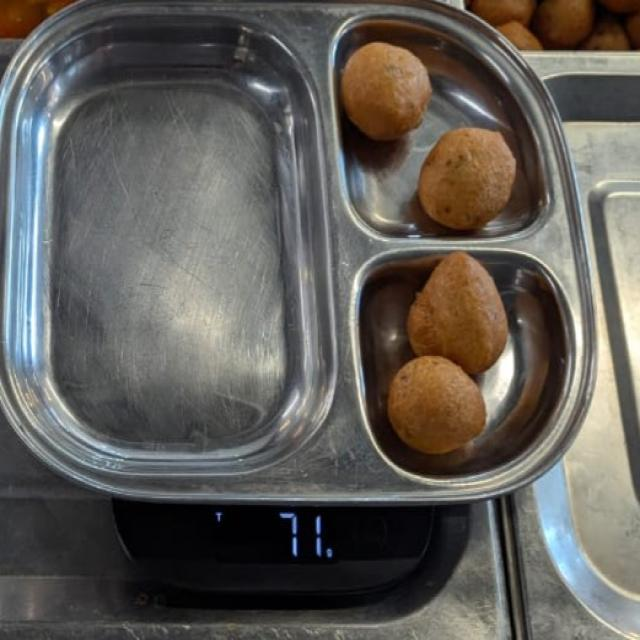Mysore Bonda: (343, 37, 519, 454)
